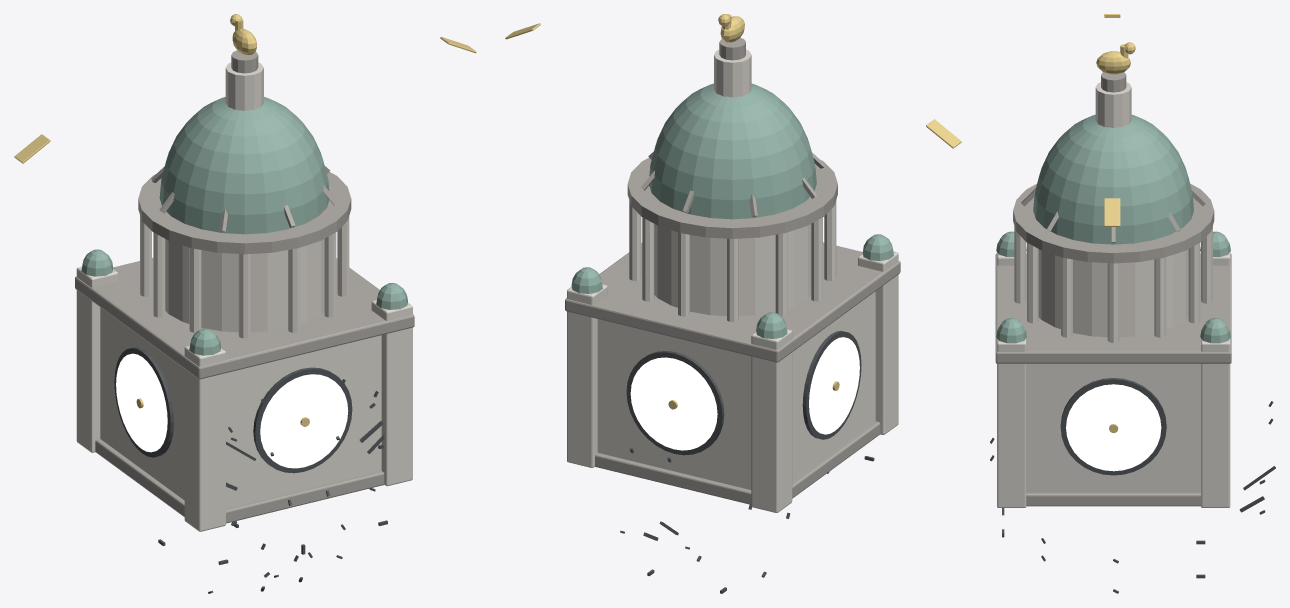
File: clock_crown.glb
3 renders of one model, left to right at view 1: azimuth 30°, elevation 25°; view 2: azimuth 150°, elevation 25°; view 3: azimuth 270°, elevation 25°, orthographic. The views are drawn at different scales.
Visible parts, largest first — view 1: clock_crown; view 2: clock_crown; view 3: clock_crown.
Part boxes in pixels (x1,y1,x2,y2): clock_crown: (14, 14, 476, 593); clock_crown: (505, 14, 961, 593); clock_crown: (990, 14, 1275, 593).
Size of the model in its own units: 36.96 by 44.03 by 21.31.
